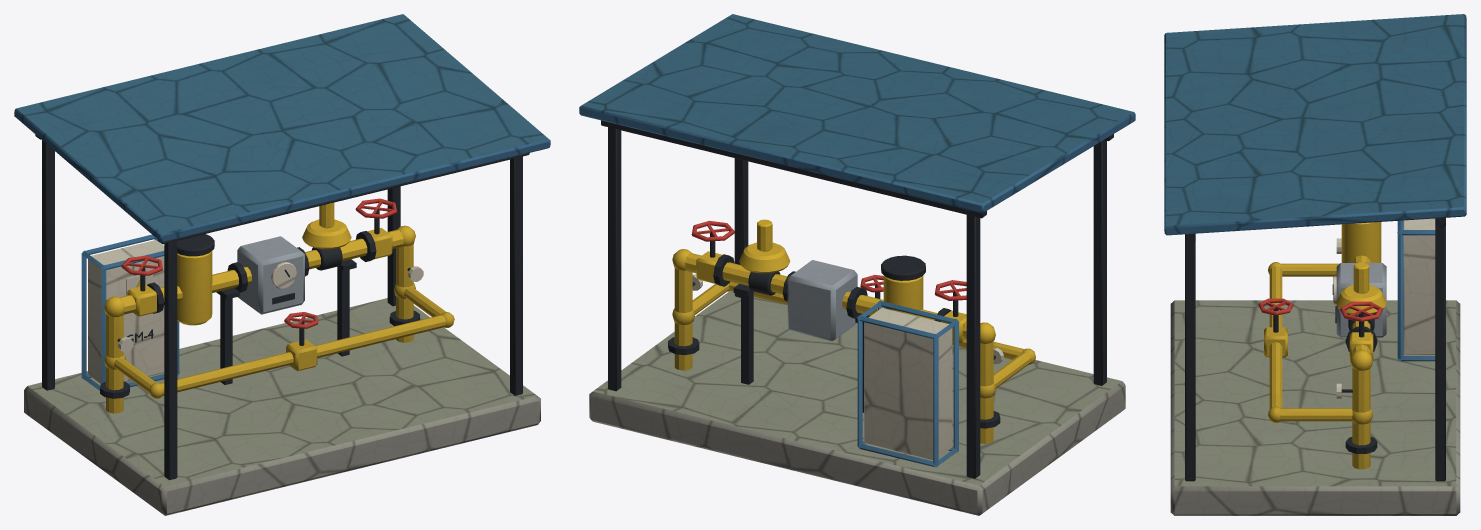
File: gas_meter_station.glb
3 views of the same model, side by side, from view 1: azimuth 30°, elevation 25°; view 2: azimuth 150°, elevation 25°; view 3: azimuth 270°, elevation 25° (orthographic). The views are drawn at different scales.
Parts seen in each view (by area): view 1: gas_meter_station; view 2: gas_meter_station; view 3: gas_meter_station.
Part boxes in pixels (x1=…): gas_meter_station: x1=14, y1=14, x2=550, y2=515; gas_meter_station: x1=579, y1=14, x2=1135, y2=515; gas_meter_station: x1=1164, y1=14, x2=1466, y2=515.
Size of the model in its own units: 3.5 by 2.62 by 2.3.
Materials: 10 (10 with a texture image).
